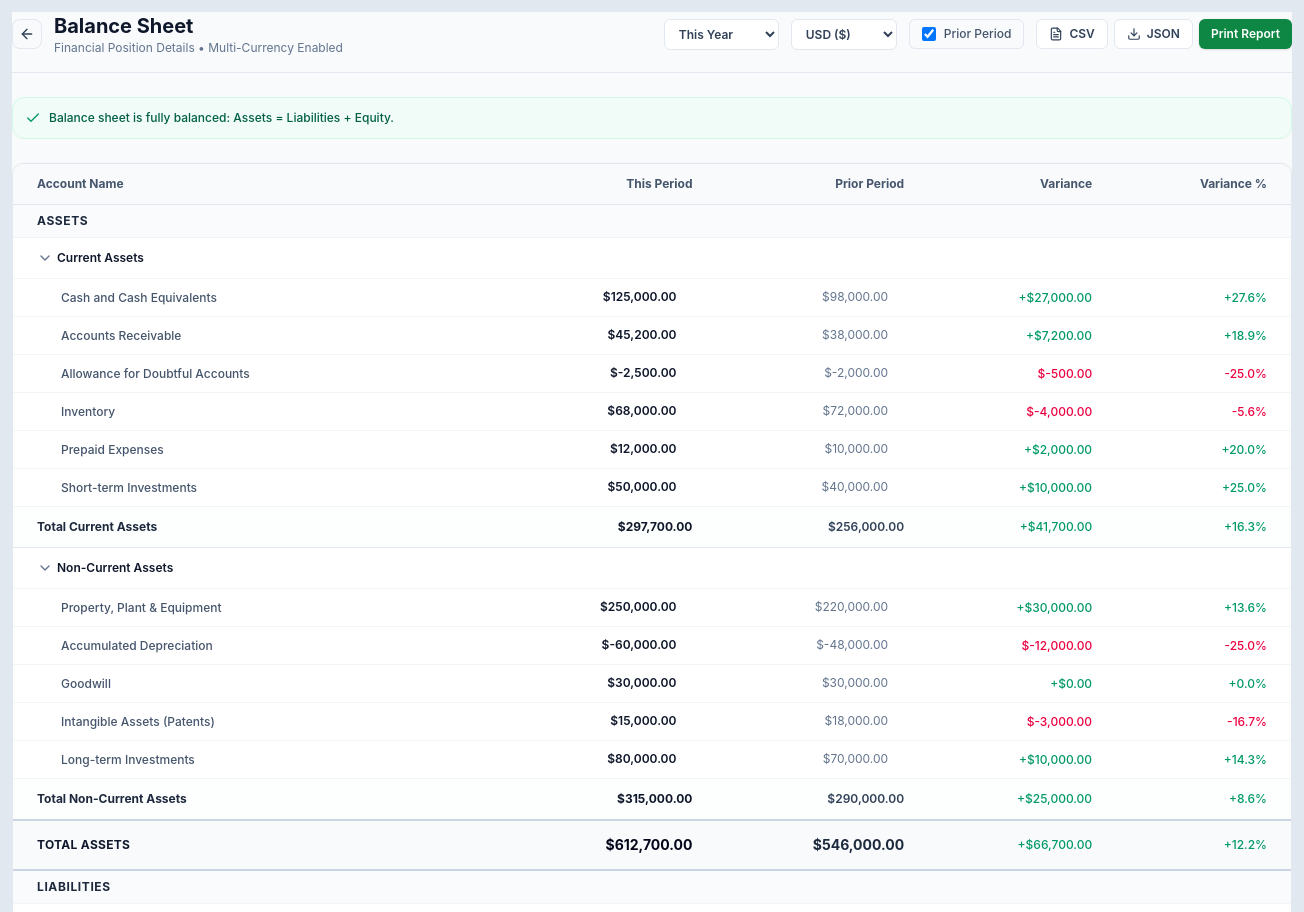
Test: BalanceSheet Component › scales values dynamically when date range changes
Expected: the button "$125,000.00" is shown, [603,289,692,306]
Step 1. Select "Last Year" in the dropdown with id "bsDateRange" → (721, 34), box [664,18,779,50]
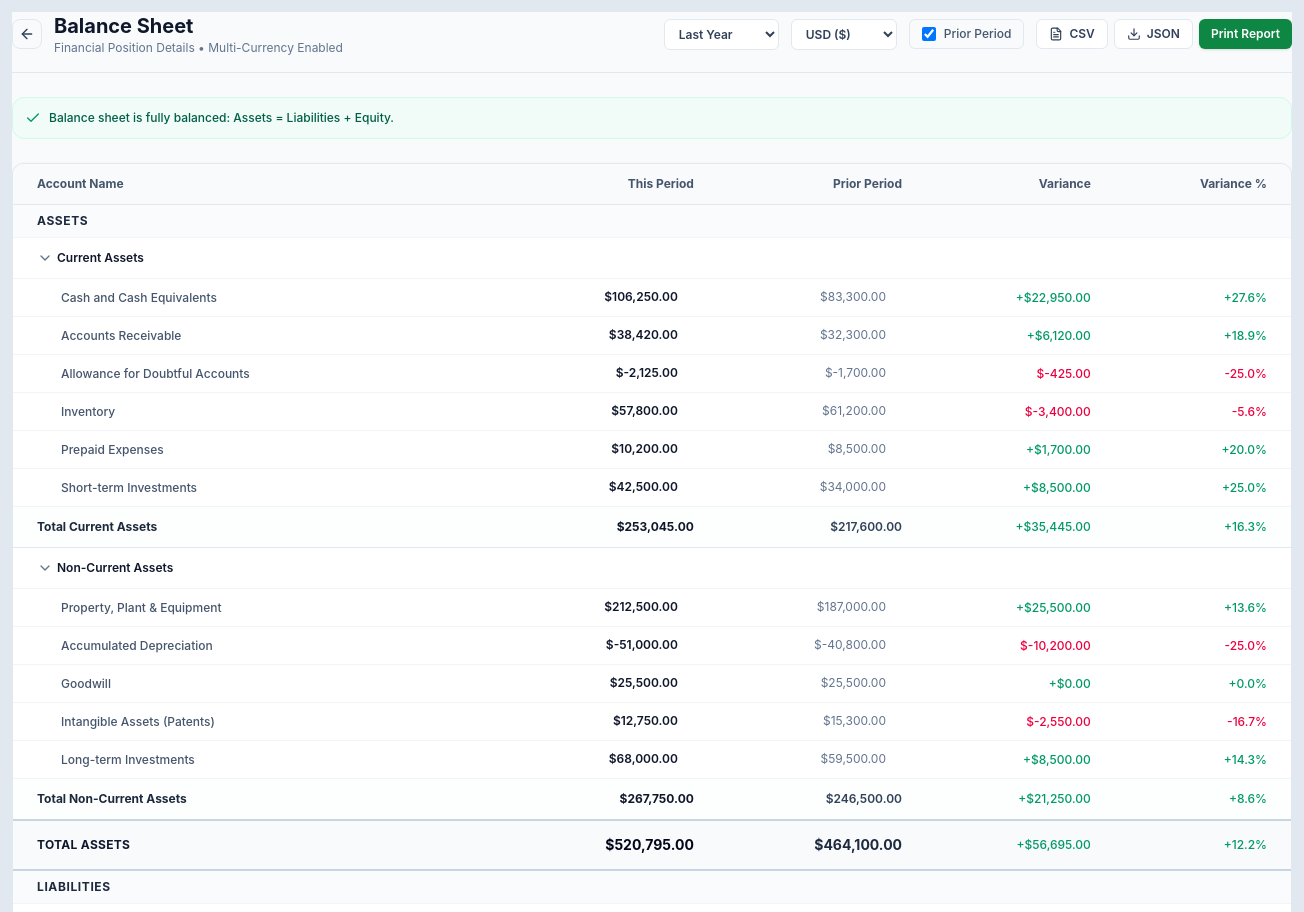
Expected: the button "$106,250.00" is shown, [604,289,694,306]
Expected: the text "$520,795.00" is shown, [506,820,718,870]
